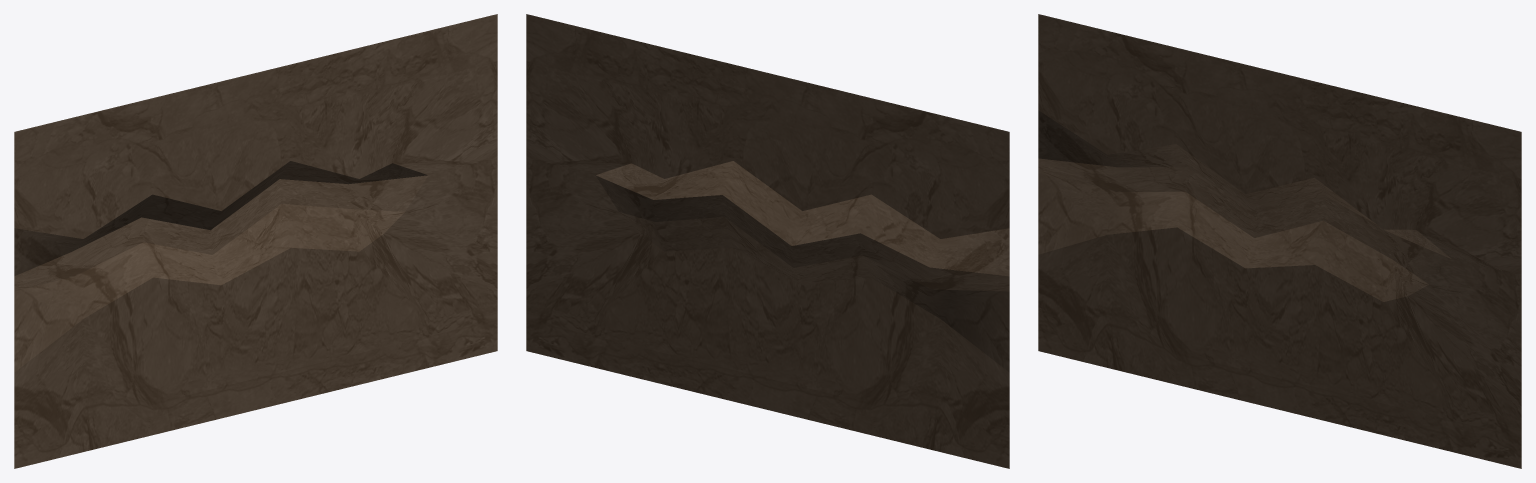
Rendered from fundo5.FBX.
3 renders of one model, left to right at view 1: azimuth 30°, elevation 25°; view 2: azimuth 150°, elevation 25°; view 3: azimuth 330°, elevation 25°, orthographic.
Visible parts, largest first — view 1: Plane012; view 2: Plane012; view 3: Plane012.
Boxes of the visible parts, x1=… form: Plane012: x1=14, y1=14, x2=497, y2=468; Plane012: x1=526, y1=14, x2=1009, y2=468; Plane012: x1=1038, y1=14, x2=1521, y2=468.
Size of the model in its own units: 244 by 163 by 9.5.
